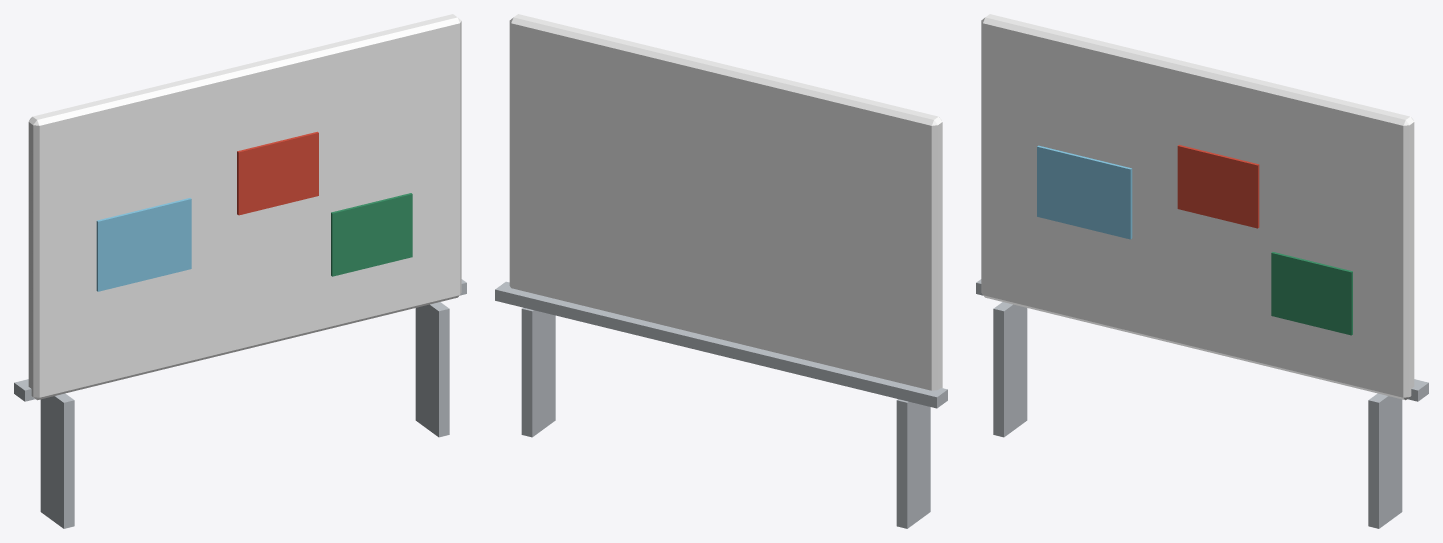
The model's file is board.fbx.
3 renders of one model, left to right at view 1: azimuth 30°, elevation 25°; view 2: azimuth 150°, elevation 25°; view 3: azimuth 330°, elevation 25°, orthographic.
Parts seen in each view (by area): view 1: board; view 2: board; view 3: board.
Boxes of the visible parts, x1,y1,x2,y2 form: board: [14, 14, 466, 528]; board: [495, 14, 947, 528]; board: [976, 14, 1428, 528].
Bounding box in the file's own units: 3.3 × 2.9 × 0.3.
